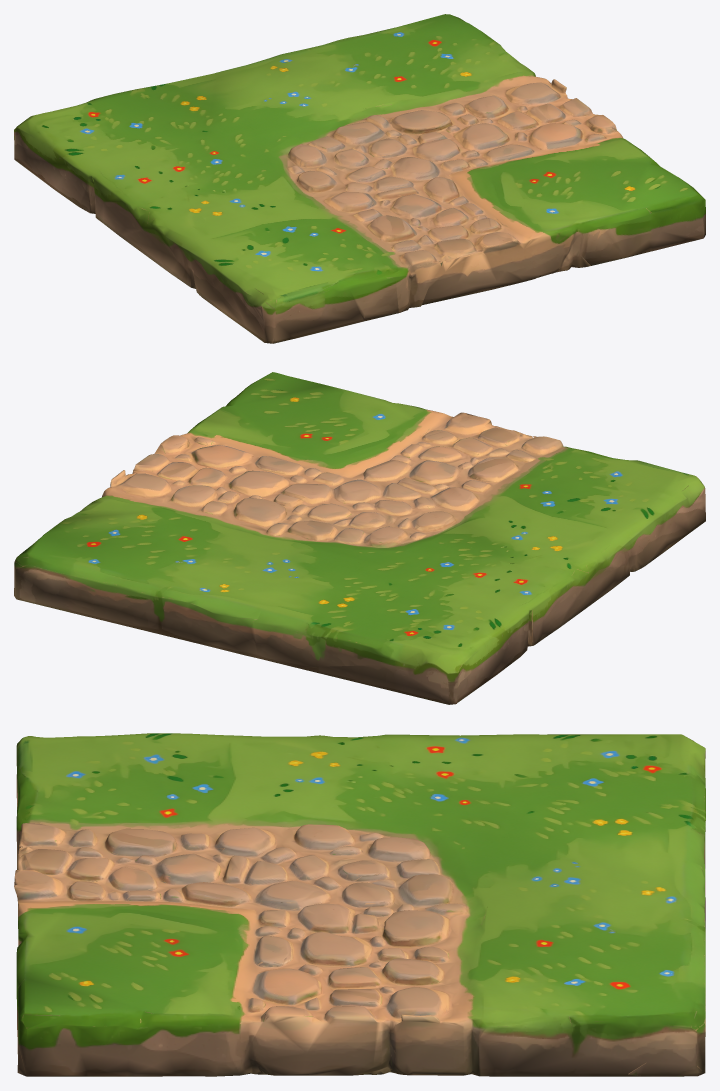
Rendered from path-curve.glb.
3 renders of one model, top to bottom at view 1: azimuth 30°, elevation 25°; view 2: azimuth 150°, elevation 25°; view 3: azimuth 270°, elevation 25°, orthographic. The views are drawn at different scales.
Parts seen in each view (by area): view 1: Mesh1.0; view 2: Mesh1.0; view 3: Mesh1.0.
Boxes of the visible parts, left/top/right/bottom form: Mesh1.0: left=14, top=14, right=705, bottom=343; Mesh1.0: left=14, top=372, right=705, bottom=704; Mesh1.0: left=14, top=733, right=705, bottom=1076.
Size of the model in its own units: 1.89 by 0.1851 by 1.89.
1 material, 1 textured.
